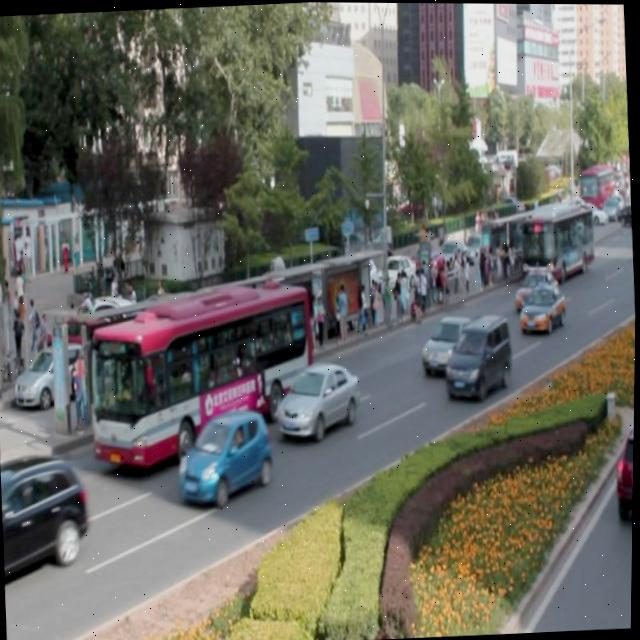car: (0, 450, 95, 587), (176, 406, 275, 502), (275, 358, 362, 437), (420, 311, 481, 375), (517, 281, 567, 332), (513, 265, 559, 309)
truck: (442, 310, 512, 396)
van: (88, 279, 316, 465), (519, 206, 595, 281)
